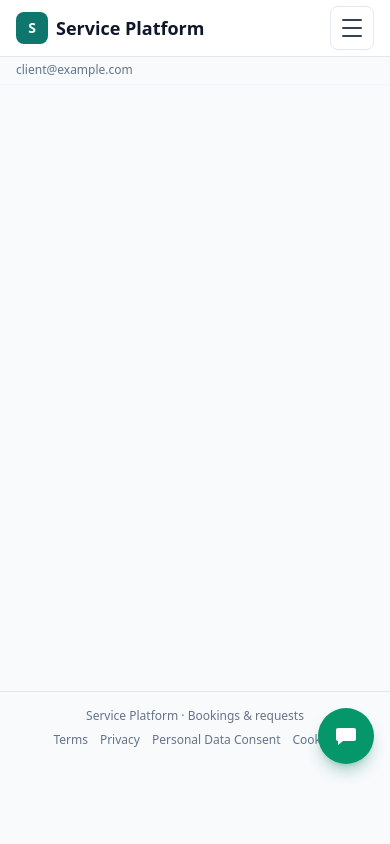
Test: client area mobile UX › client nav shows Account, Bookings, and Requests on desktop and hamburger on mobile
Click the button with test id "app-layout-mobile-menu-button" at (352, 28), box top-left (330, 6), bottom-right (374, 50)
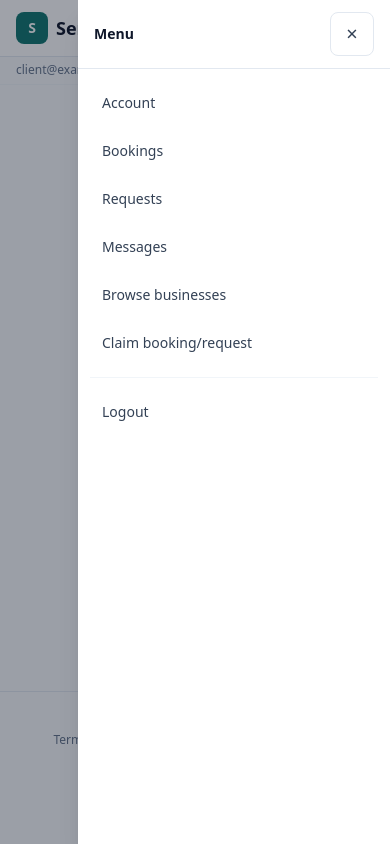
expect the dialog with test id "app-layout-mobile-menu" shows "Account": met, box top-left (90, 81), bottom-right (378, 125)
expect the dialog with test id "app-layout-mobile-menu" shows "Bookings": met, box top-left (90, 129), bottom-right (378, 173)
expect the dialog with test id "app-layout-mobile-menu" shows "Requests": met, box top-left (90, 177), bottom-right (378, 221)
